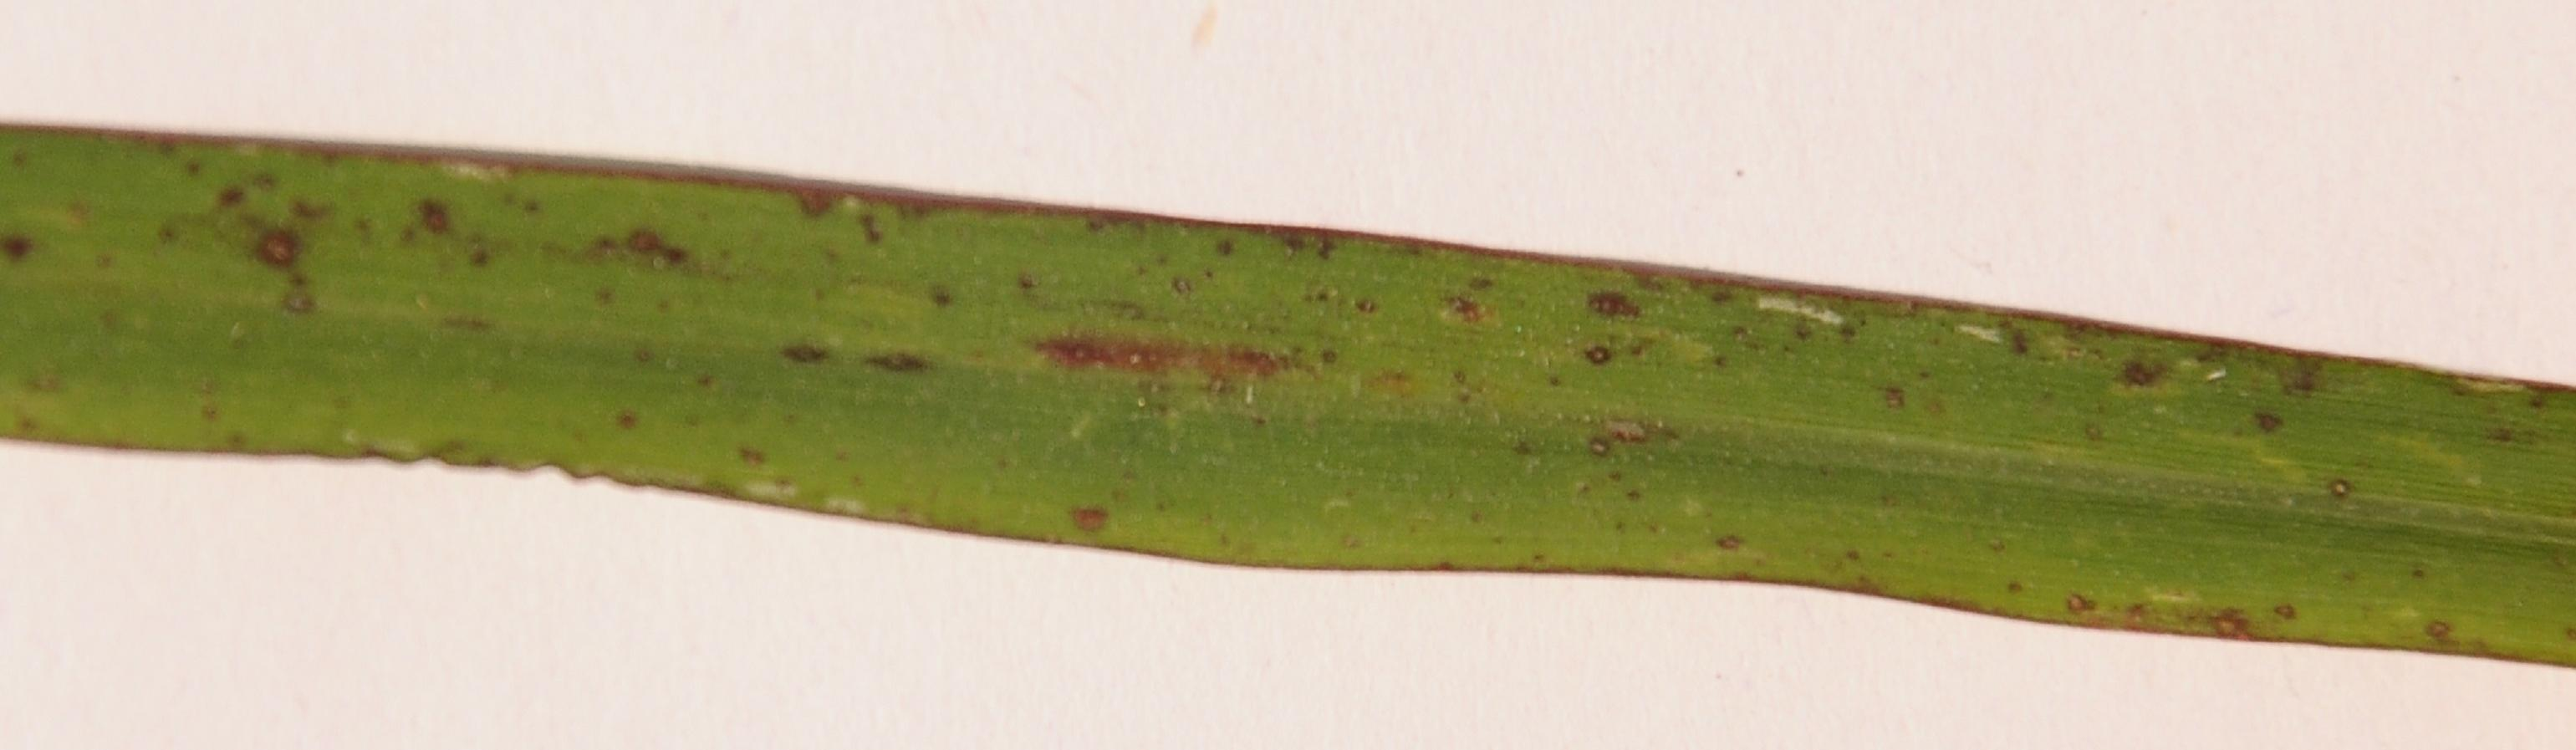leaf_smut: (215, 144, 2366, 546)
